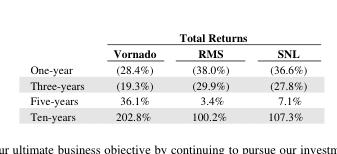table: (29, 29, 306, 123)
table column: (98, 29, 173, 123), (173, 29, 247, 123), (29, 29, 98, 123), (247, 29, 306, 123)
table column header: (29, 29, 306, 61)
table row: (29, 44, 306, 61), (29, 76, 306, 92), (29, 107, 306, 123), (29, 29, 306, 44), (29, 61, 306, 76), (29, 92, 306, 107)
table spanning cell: (98, 29, 306, 44)
